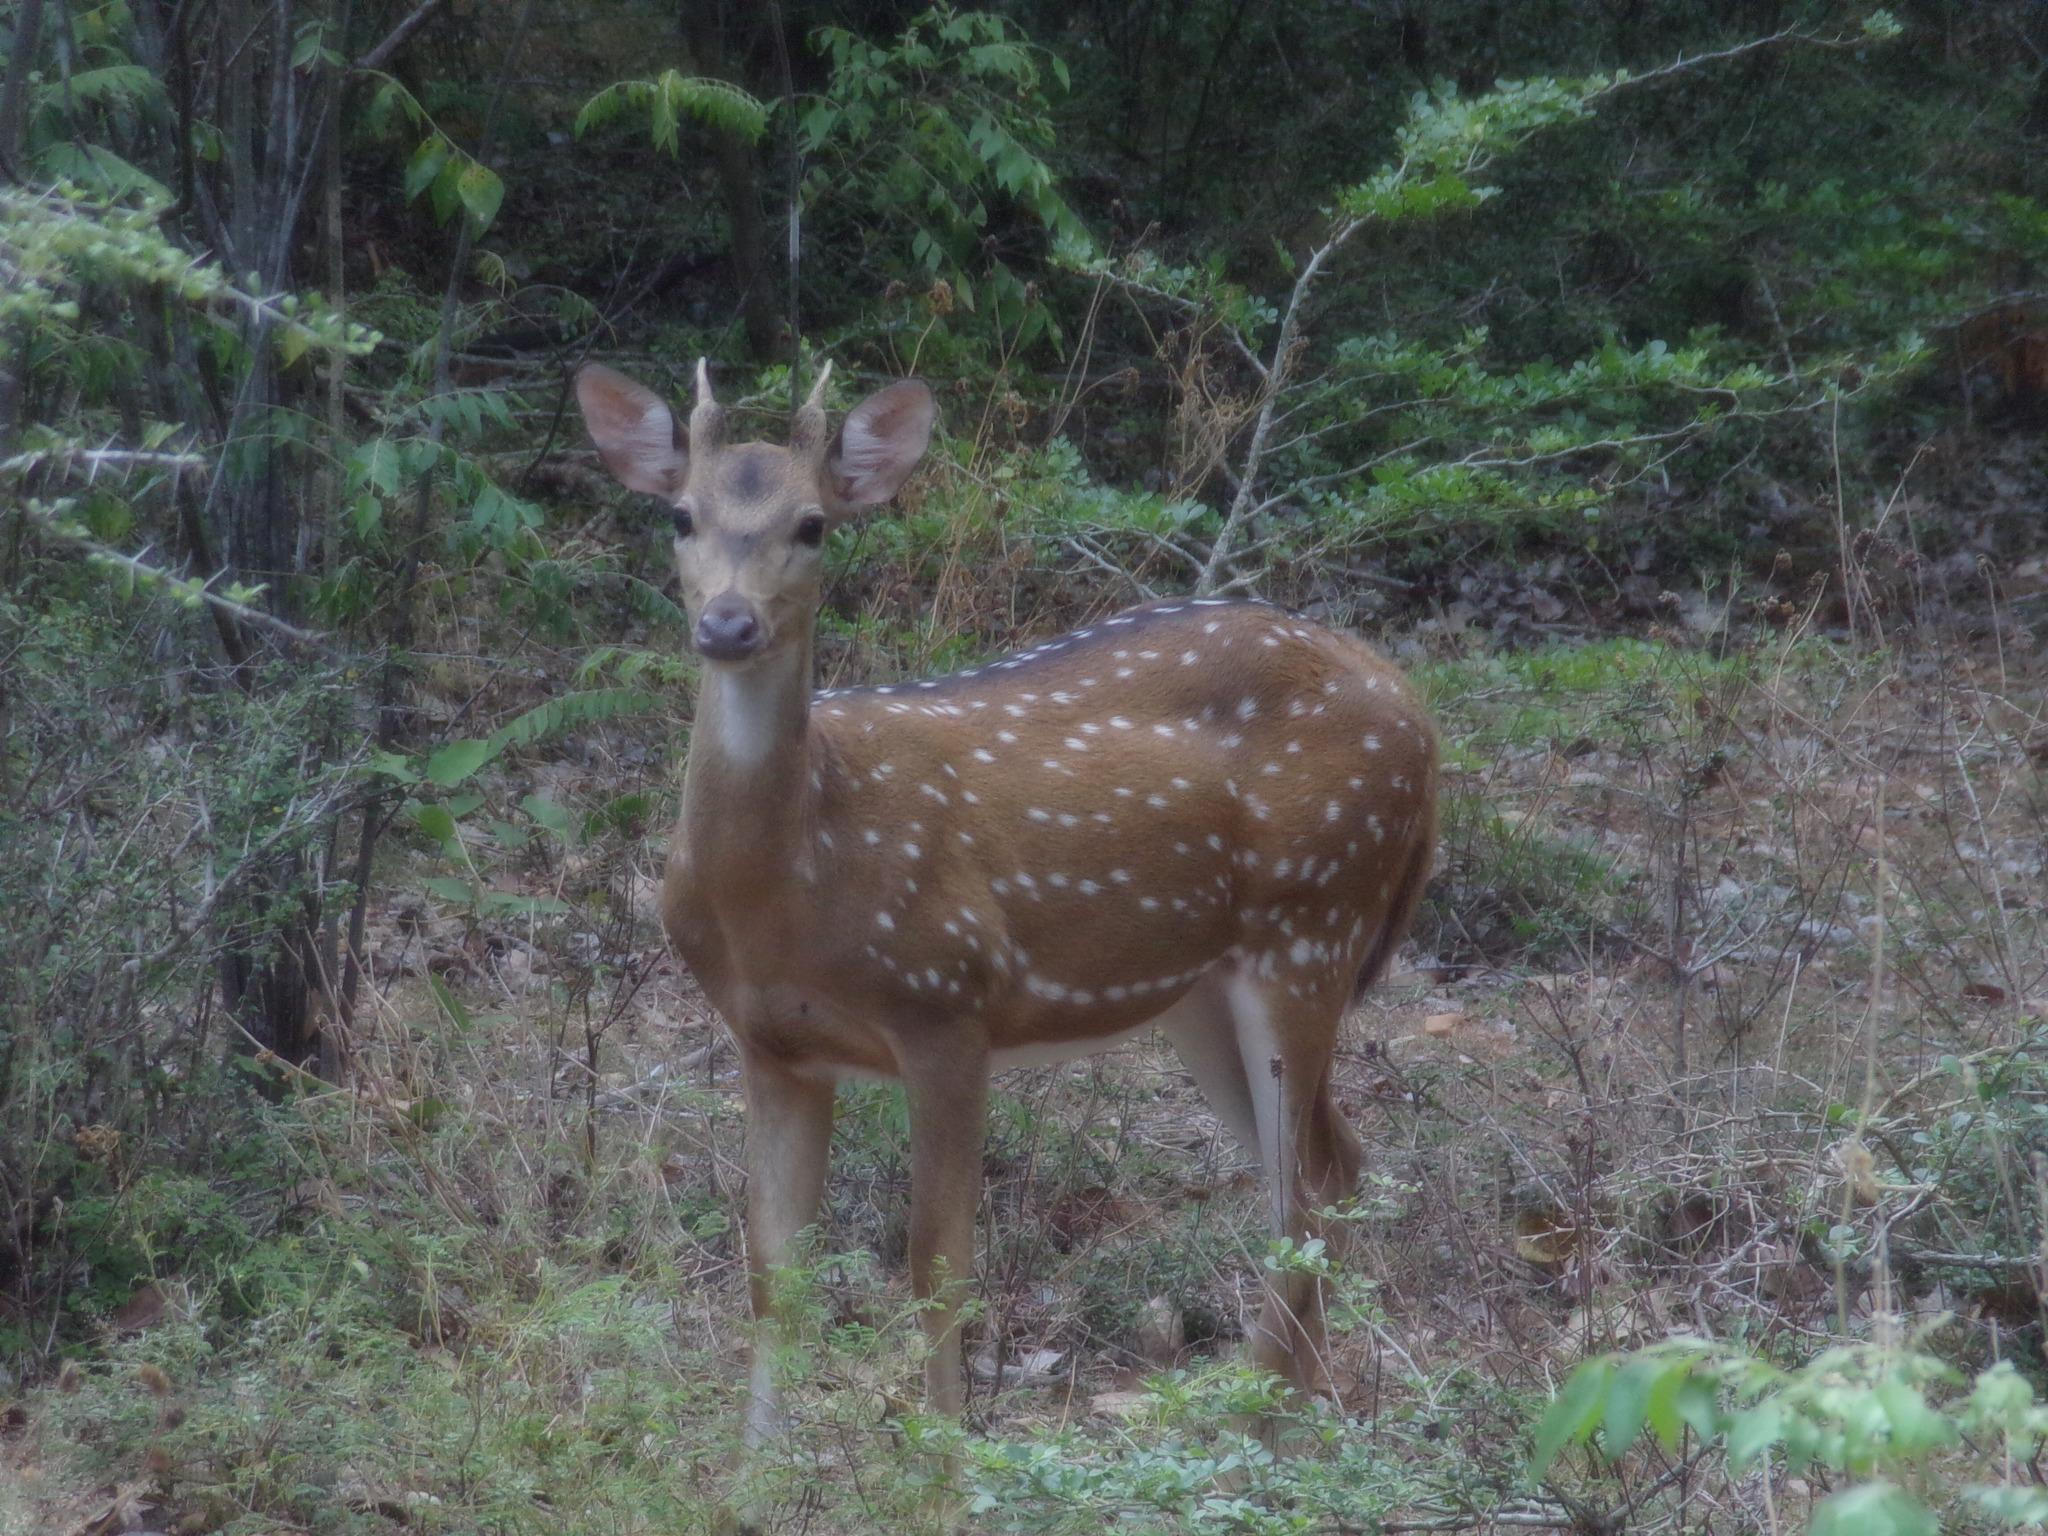Deer: (576, 360, 1437, 1412)
